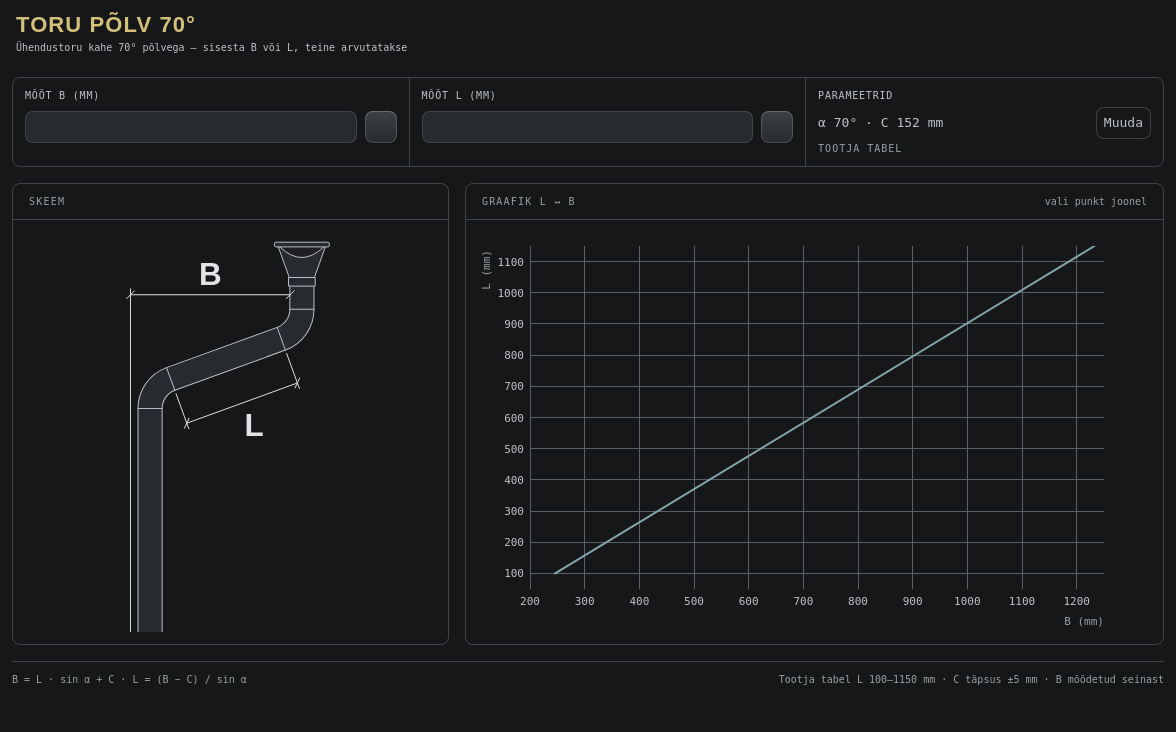
Test: the Toru põlv 70° calculator › fills B while L is being typed, without waiting for a commit
This screenshot has width=1176, height=732.
Step 1. Type "500" into the field with id "input-toru-L" → x=587, y=126, box [422,110,753,142]
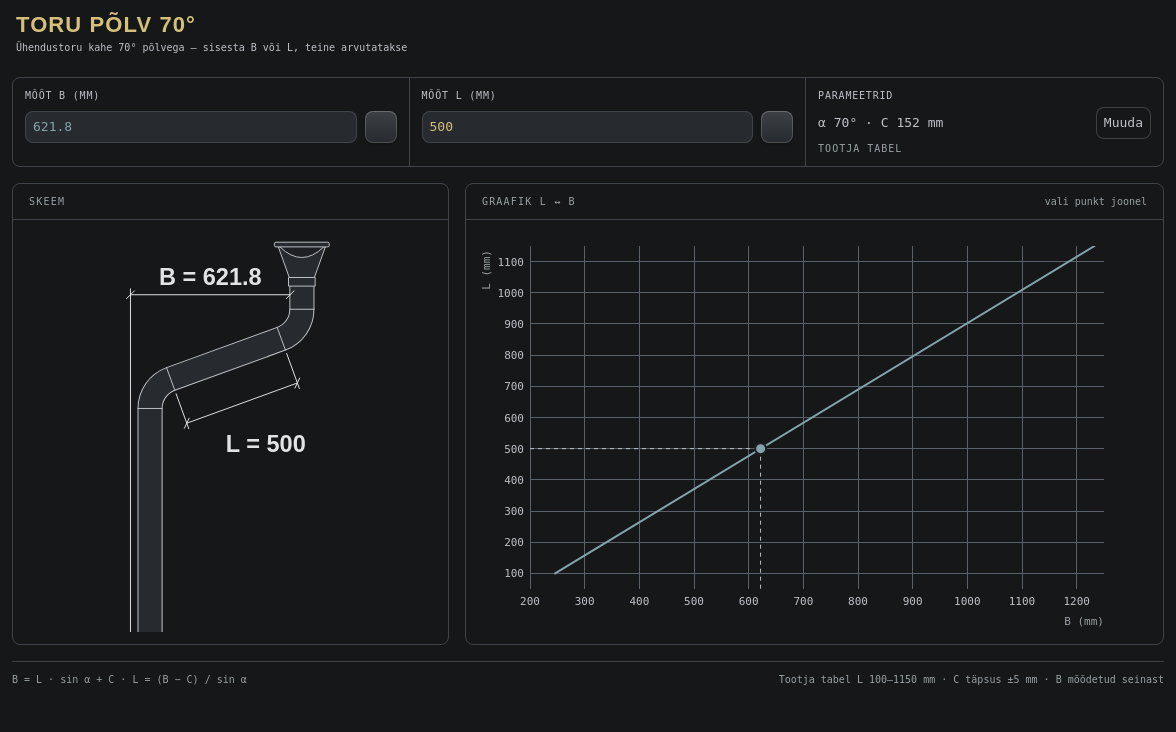
Now the field with id "input-toru-B" holds "621.8", box [25,110,356,142]
